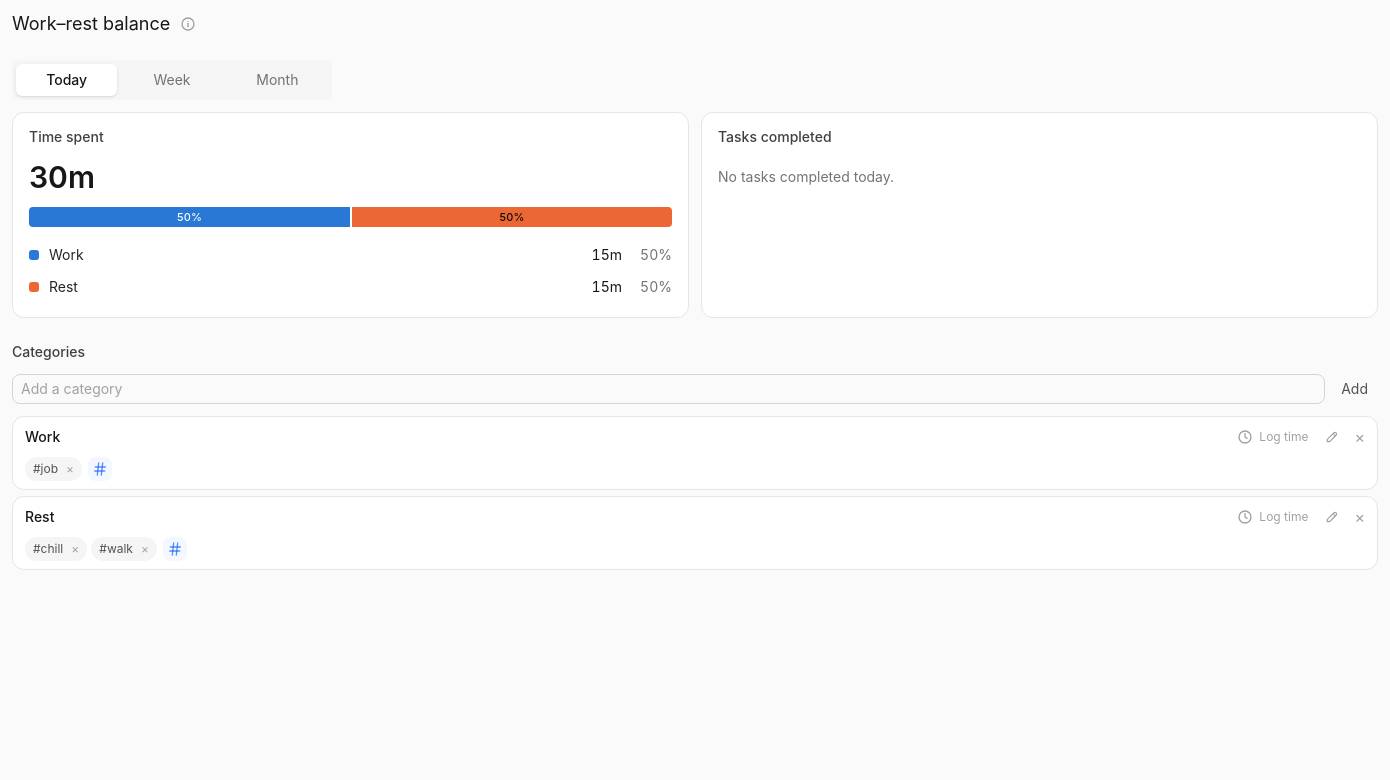
the sessions behind a piece (BAL-16) › counts a session split between categories at its share, saying what it was split with (BAL-4)
The image size is (1390, 780).
Click the button "Work 15m 50%". click: (66, 254)
box: 21,239 -> 680,271
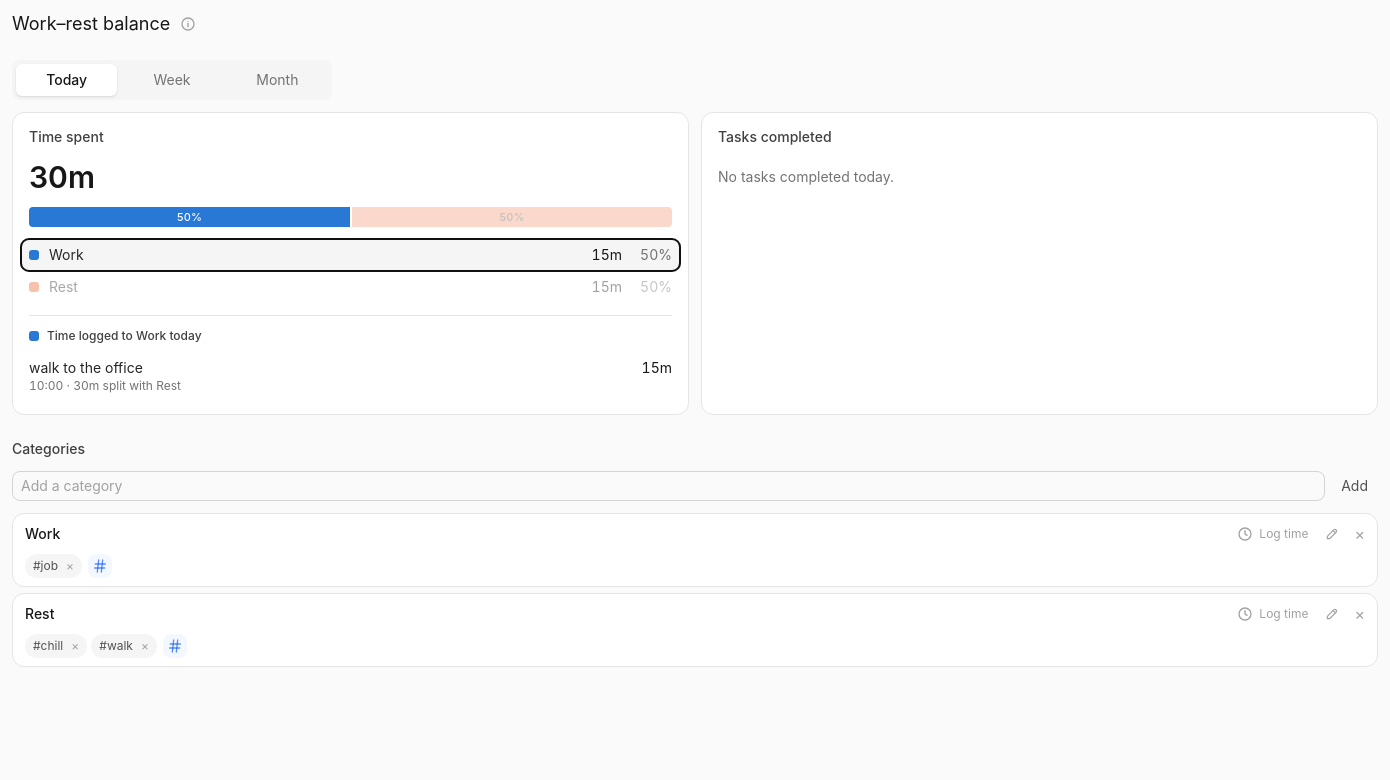
Expected: the list items read "walk to the office10:00 · 30m split with Rest15m", in this order, 21,352 -> 680,400
